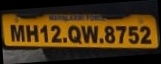character: (80, 25, 98, 43), (10, 23, 25, 42), (67, 25, 82, 44), (25, 23, 38, 42), (139, 25, 152, 44), (50, 24, 62, 43), (127, 25, 139, 44), (114, 25, 126, 43), (104, 24, 115, 43), (39, 24, 48, 43)
